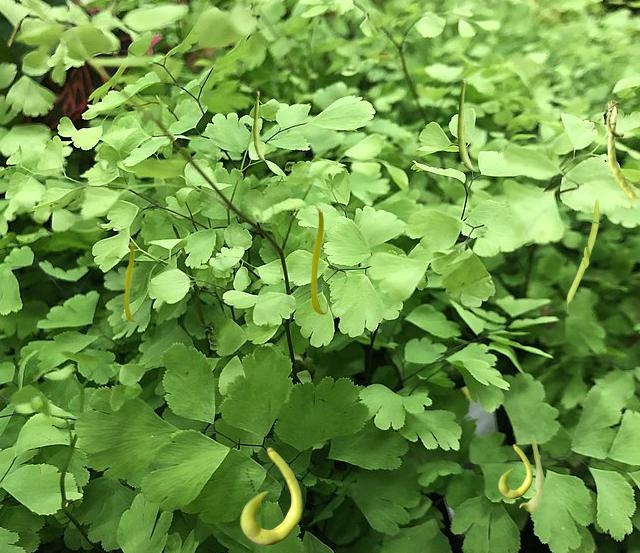french_bean: (240, 447, 301, 544), (565, 196, 599, 315), (606, 100, 637, 197), (457, 78, 478, 170), (310, 206, 327, 314), (498, 444, 531, 497), (519, 436, 542, 511), (253, 91, 268, 160), (124, 241, 136, 321)
